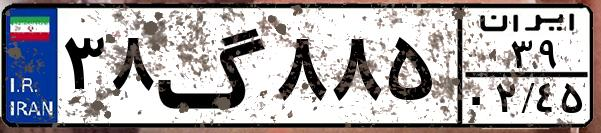0: (470, 70, 495, 125)
2: (495, 70, 520, 125)
3: (57, 26, 110, 100), (508, 27, 537, 80)
4: (535, 70, 560, 125)
5: (385, 28, 445, 110), (560, 70, 590, 125)
8: (270, 28, 330, 110), (330, 28, 385, 110), (110, 28, 156, 98)
9: (537, 27, 568, 80)
گ: (156, 12, 270, 120)
